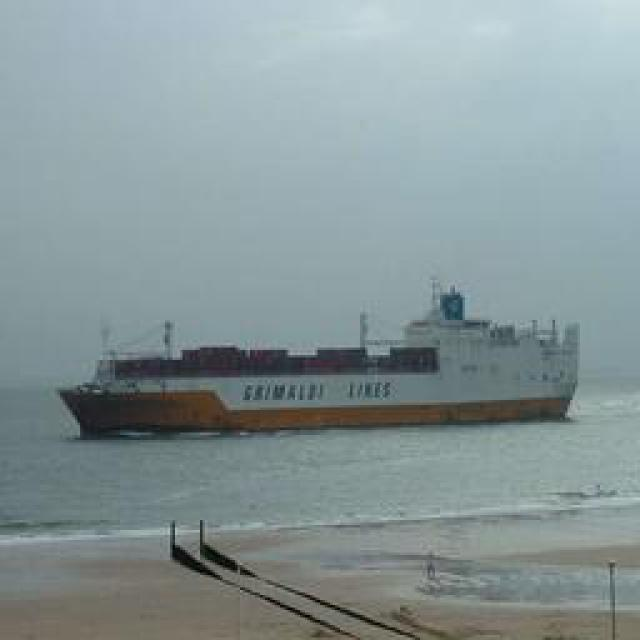Ship: (66, 288, 581, 436)
